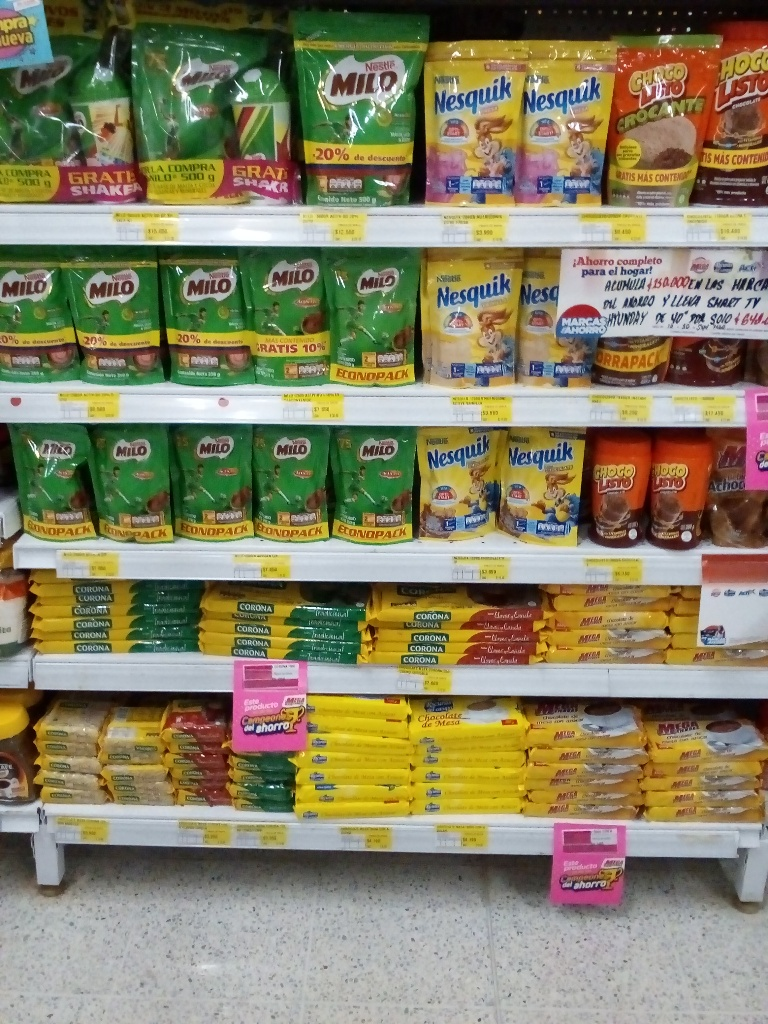COL0170103TRR00100: (707, 18, 768, 207)
COL0170303DYP20000: (418, 421, 507, 538)
